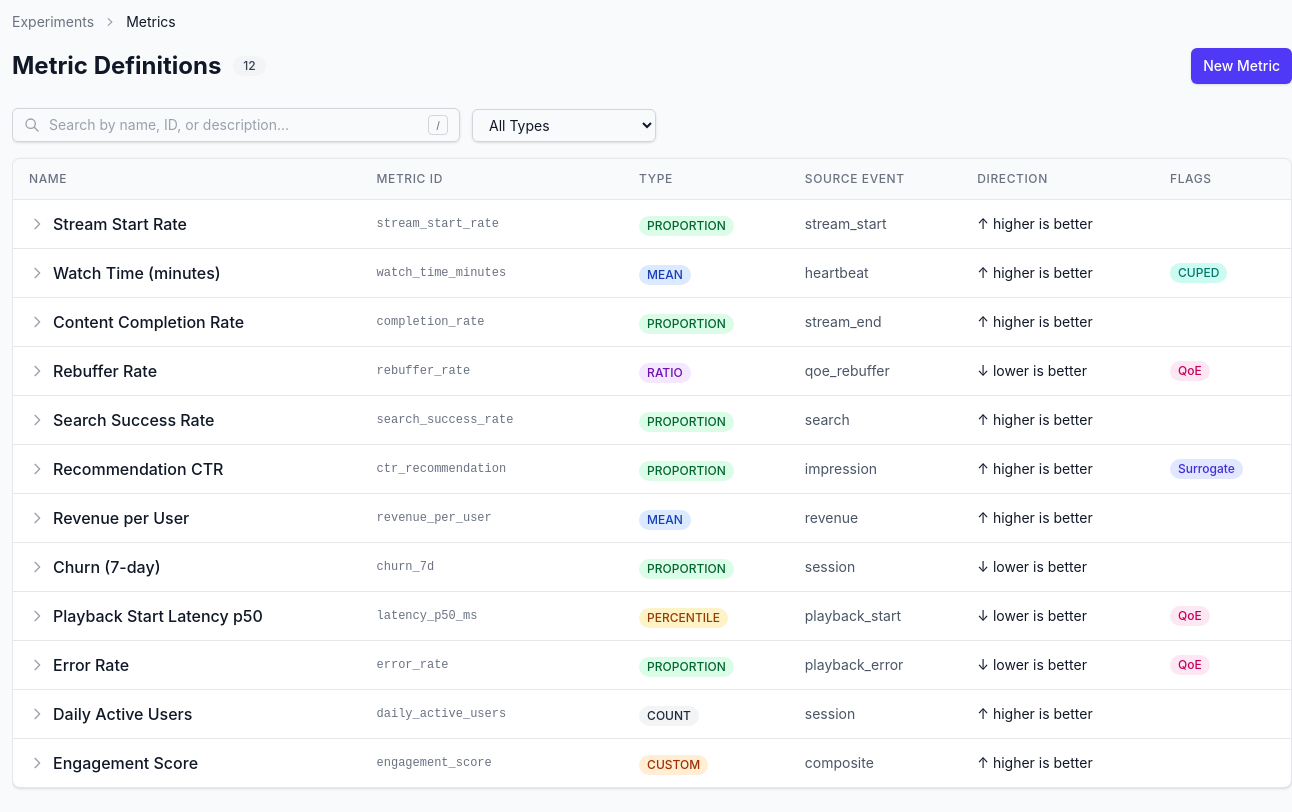
Metric Browser Page › searches by name text
The width and height of the screenshot is (1292, 812).
Expected: the text "Stream Start Rate" is shown, x1=53 y1=212 x2=187 y2=236
Type "Rebuffer" into the field with test id "metric-search" at coordinates (236, 125), box x1=12 y1=108 x2=460 y2=142
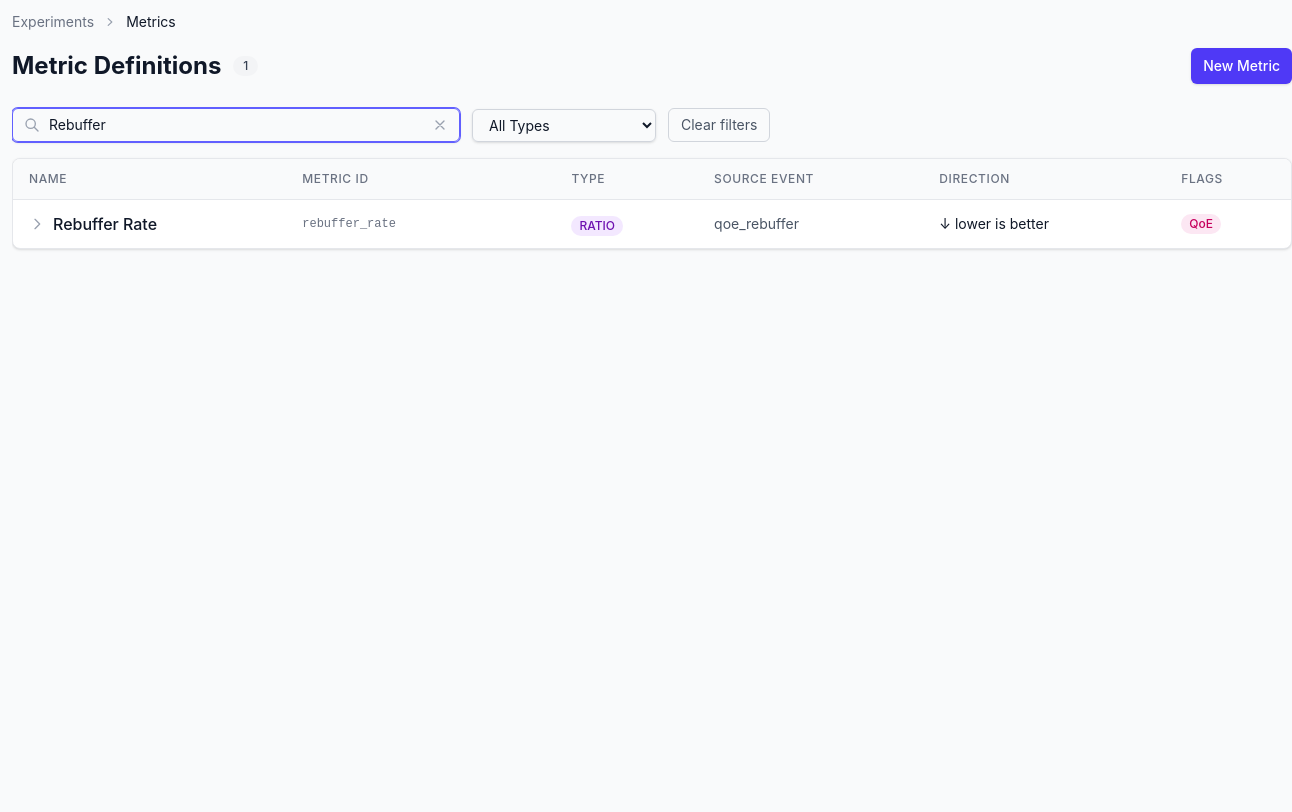
Expected: the text "Rebuffer Rate" is shown, x1=53 y1=212 x2=157 y2=236
Expected: the button "Stream Start Rate" is gone
